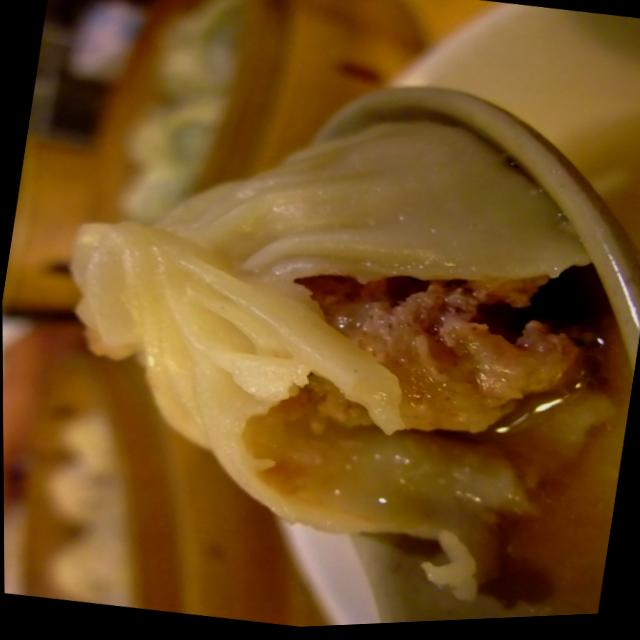带馅早点: (6, 23, 640, 640)
